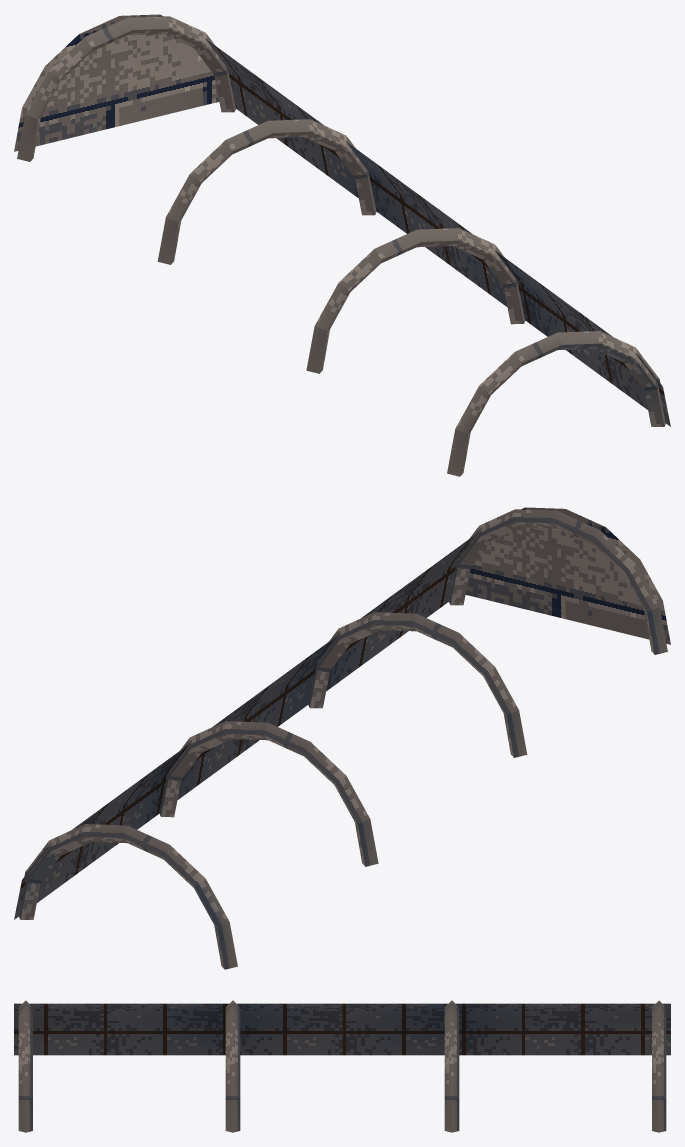
The model's file is dgn.ceiling__vault_1x3.glb.
3 views of the same model, one above another, from view 1: azimuth 30°, elevation 25°; view 2: azimuth 150°, elevation 25°; view 3: azimuth 270°, elevation 25° (orthographic). The views are drawn at different scales.
Parts seen in each view (by area): view 1: kit_ribs, kit_shell_vault, kit_shell_tympana; view 2: kit_ribs, kit_shell_vault, kit_shell_tympana; view 3: kit_shell_vault, kit_ribs.
Boxes of the visible parts, x1,y1,x2,y2 form: kit_ribs: (17, 16, 665, 476); kit_shell_vault: (205, 38, 670, 426); kit_shell_tympana: (14, 14, 219, 151); kit_ribs: (19, 509, 667, 969); kit_shell_vault: (14, 531, 479, 919); kit_shell_tympana: (465, 507, 670, 644); kit_shell_vault: (14, 1003, 670, 1055); kit_ribs: (18, 1000, 666, 1132).
Bounding box in the file's own units: 3.15 × 1.6 × 11.
3 materials, 3 textured.
